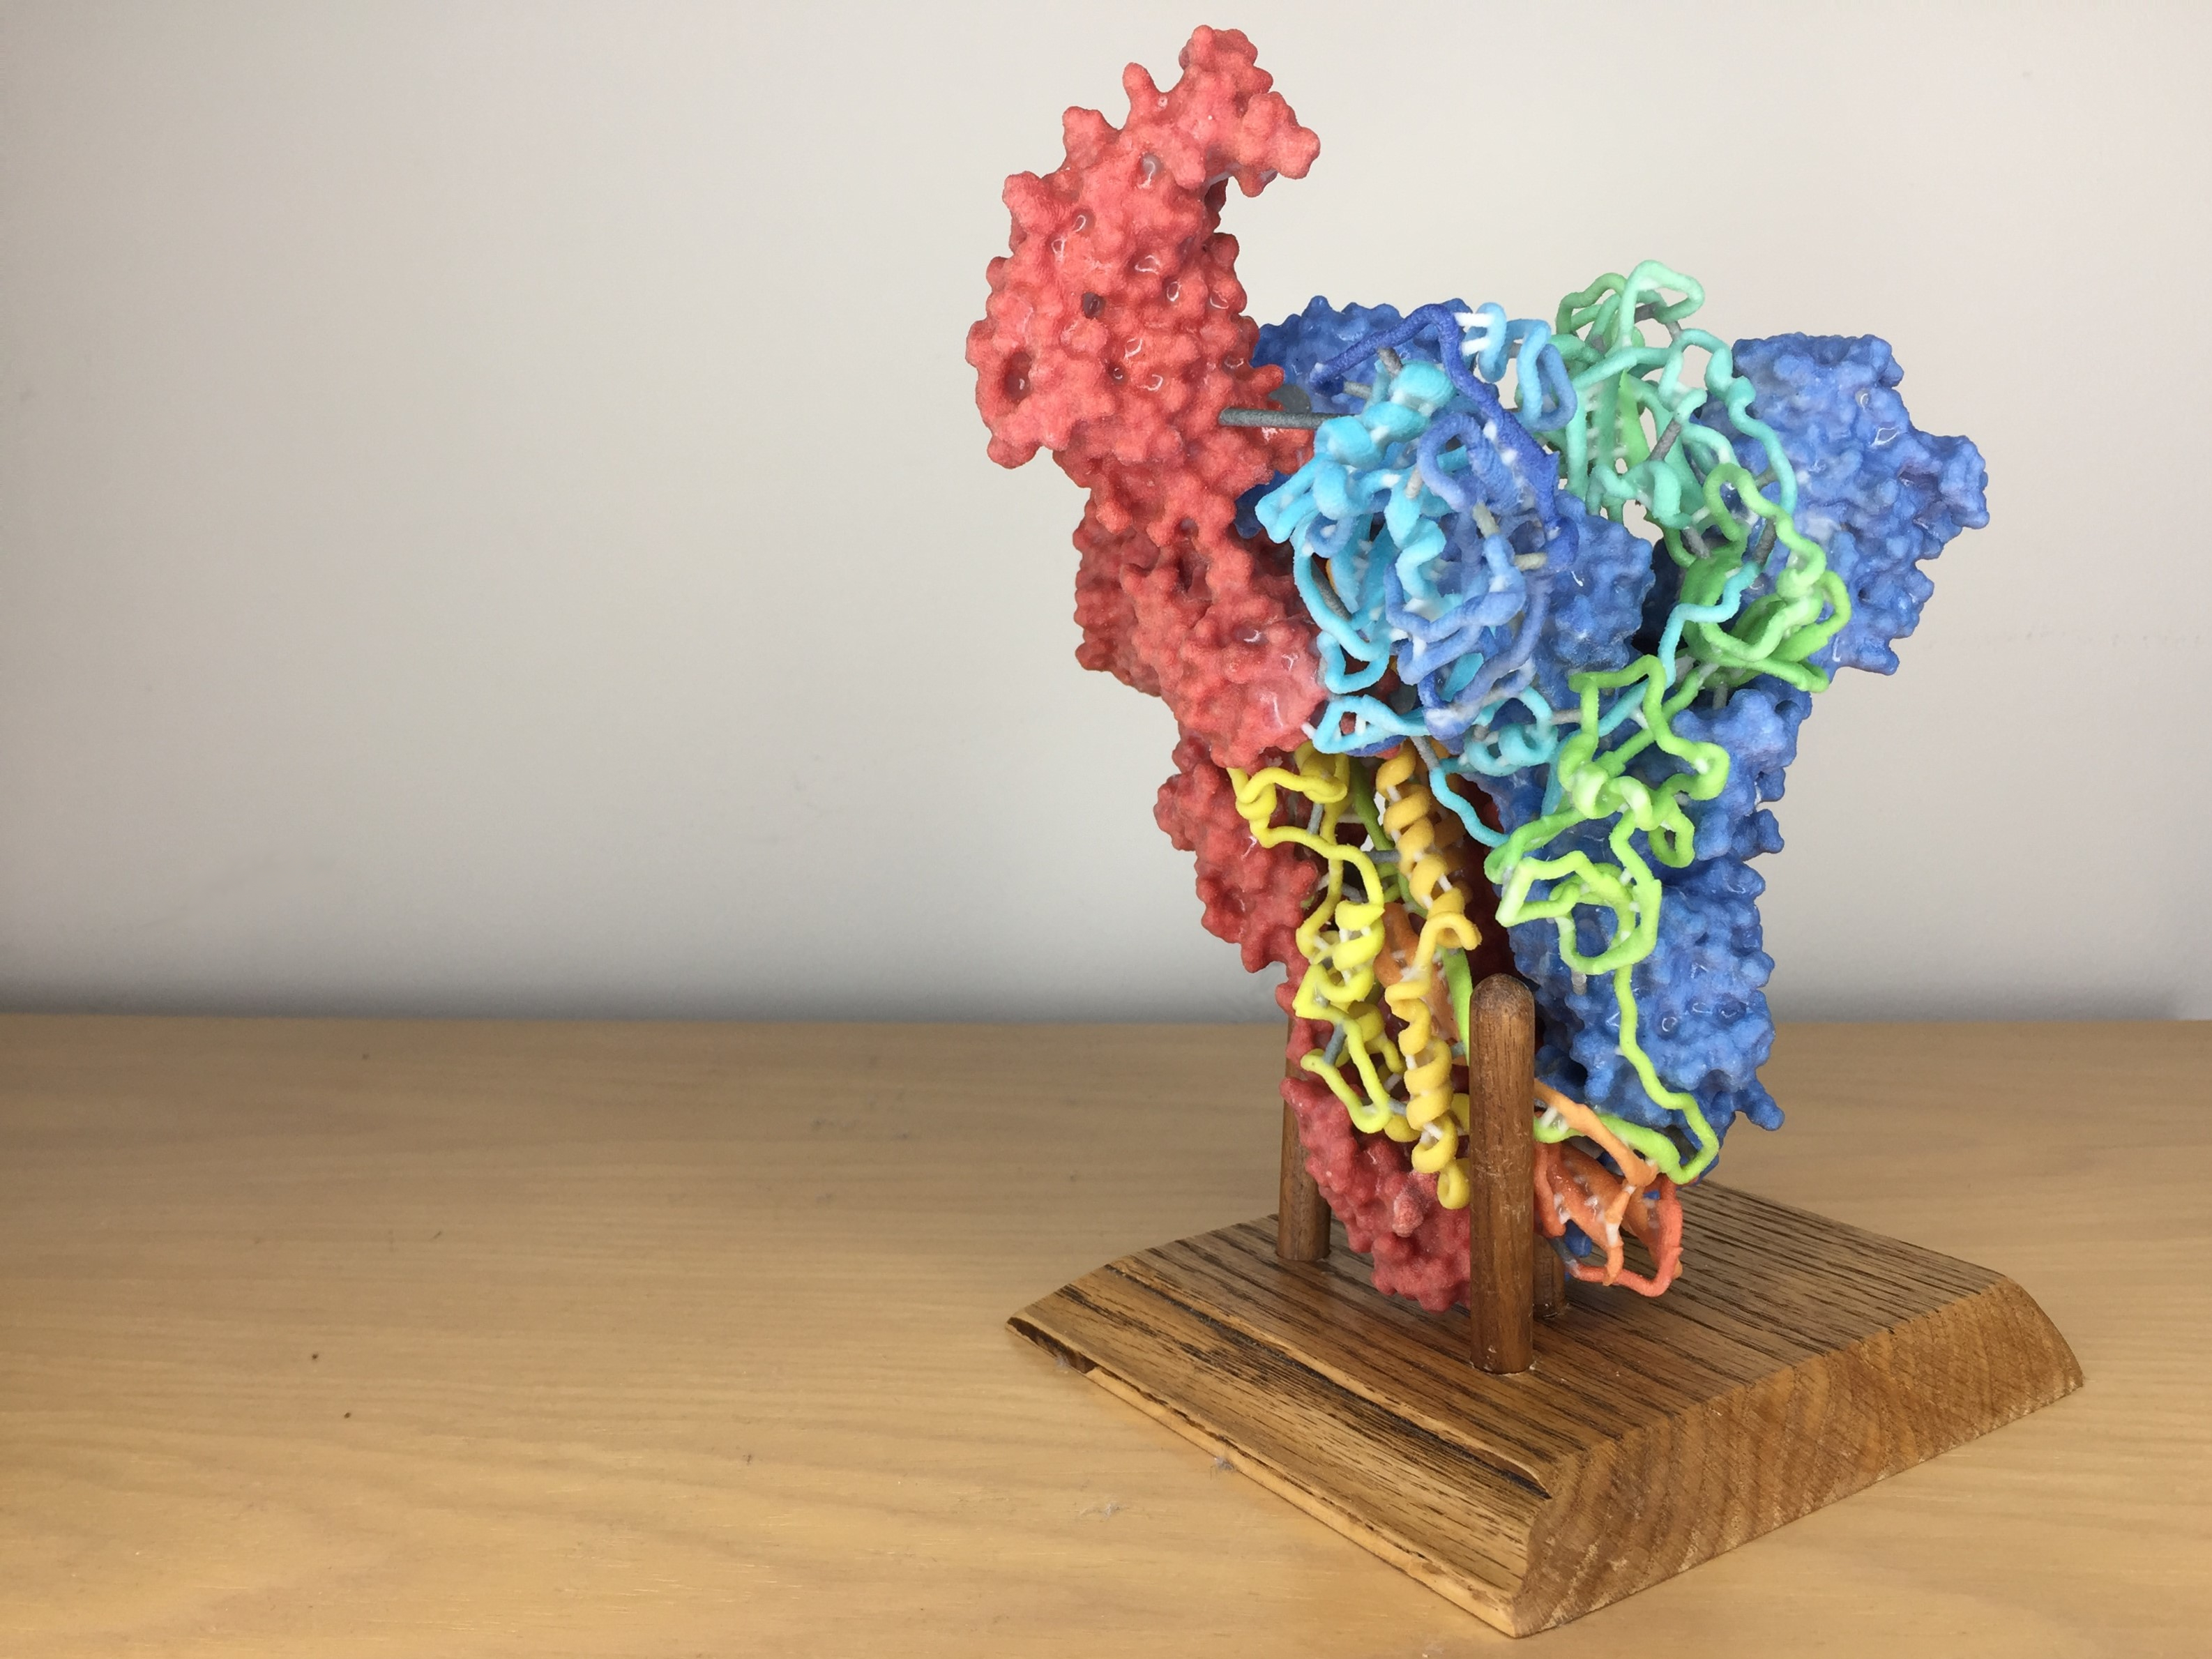COVID19: (960, 16, 2062, 1208)
